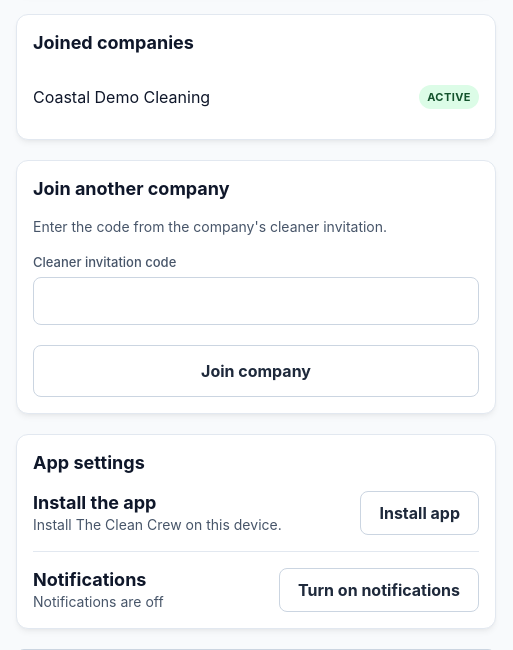
Test case: CLE-26 cleaner profile › joins another company with current details and refreshes the company list
The image size is (513, 650).
(page scrolled)
Type " harbr2demojoin99 " into the field labelled "Cleaner invitation code" at (256, 301), box [33,277,479,325]
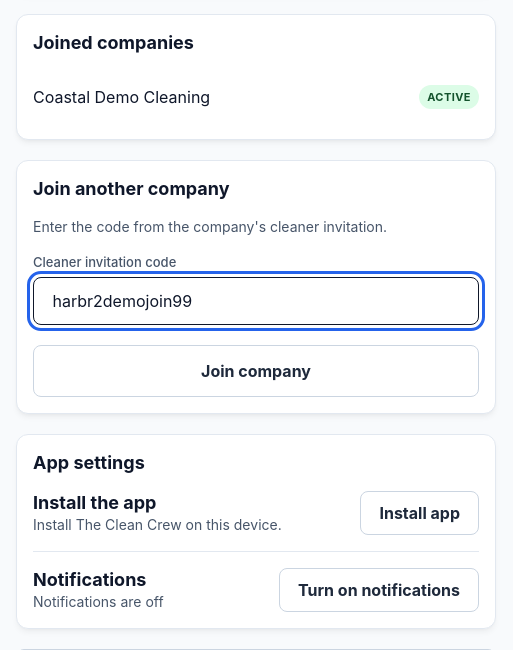
Click the button "Join company" at (256, 371), box [33,345,479,397]
(page scrolled)
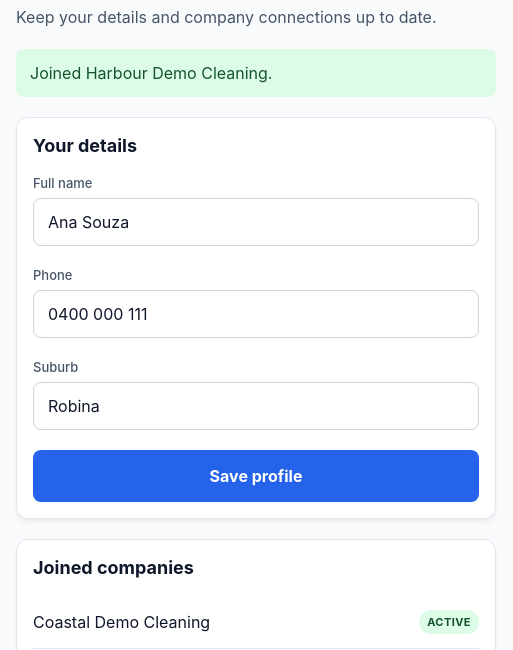
Now the message shows "Joined Harbour Demo Cleaning", box [30,63,272,83]
